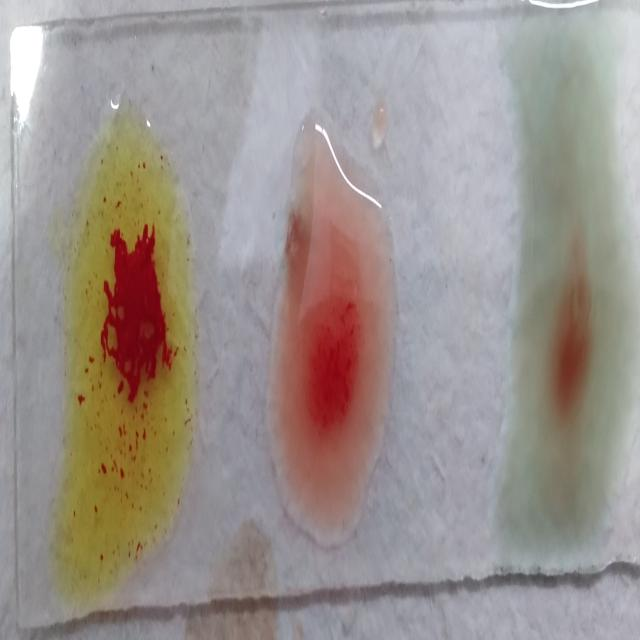B: (60, 97, 193, 592)
